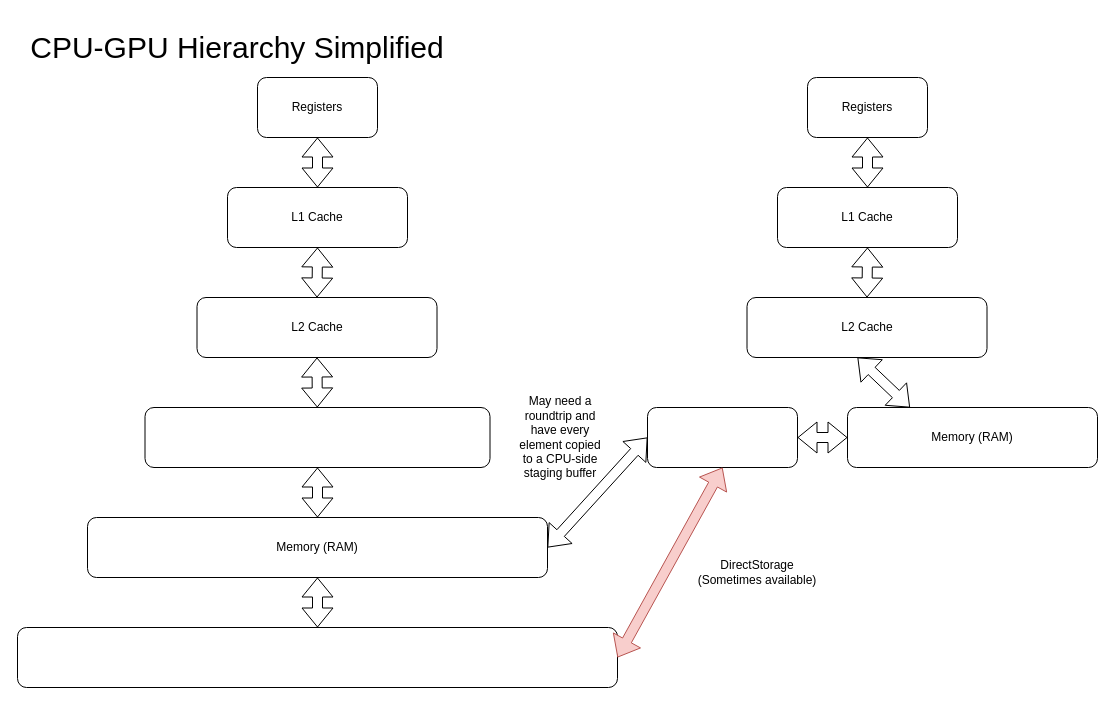
Image size: 1115x705. Some labels were removed from this diagram. The shapes that lost their labels are listed below. From the top down, each one's centre as x and y in pixels, then its label:
At (x=317, y=437): "L3 Cache".
At (x=722, y=437): "Staging Memory".
At (x=317, y=657): "Storage (HDD, SSD, NVMe)".
